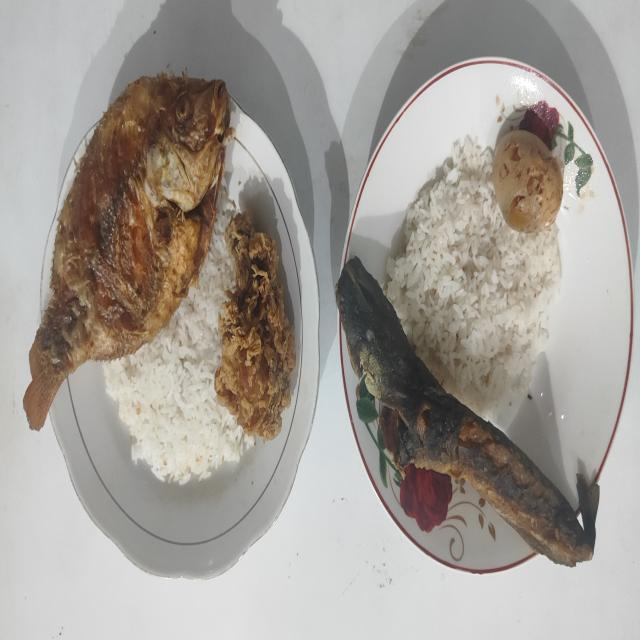ikan_mujair: (23, 73, 232, 430)
nasi_putih: (384, 137, 561, 420), (103, 186, 255, 484)
